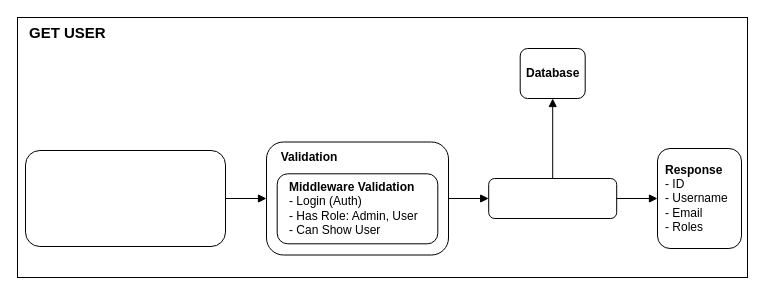
This 765x295 diagram has some shape labels left out. The shapes that lost their labels are listed below. From the top down, each one's centre as x and y in pixels, then its label:
pixel 125 198: Request - User ID Header - Authorization: Bearer (token)
pixel 552 198: Get User Get User by User ID
